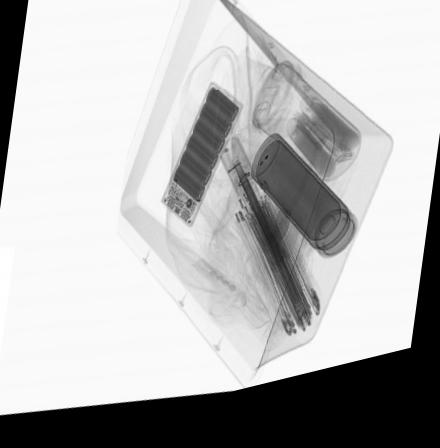Powerbank: (162, 94, 241, 236)
